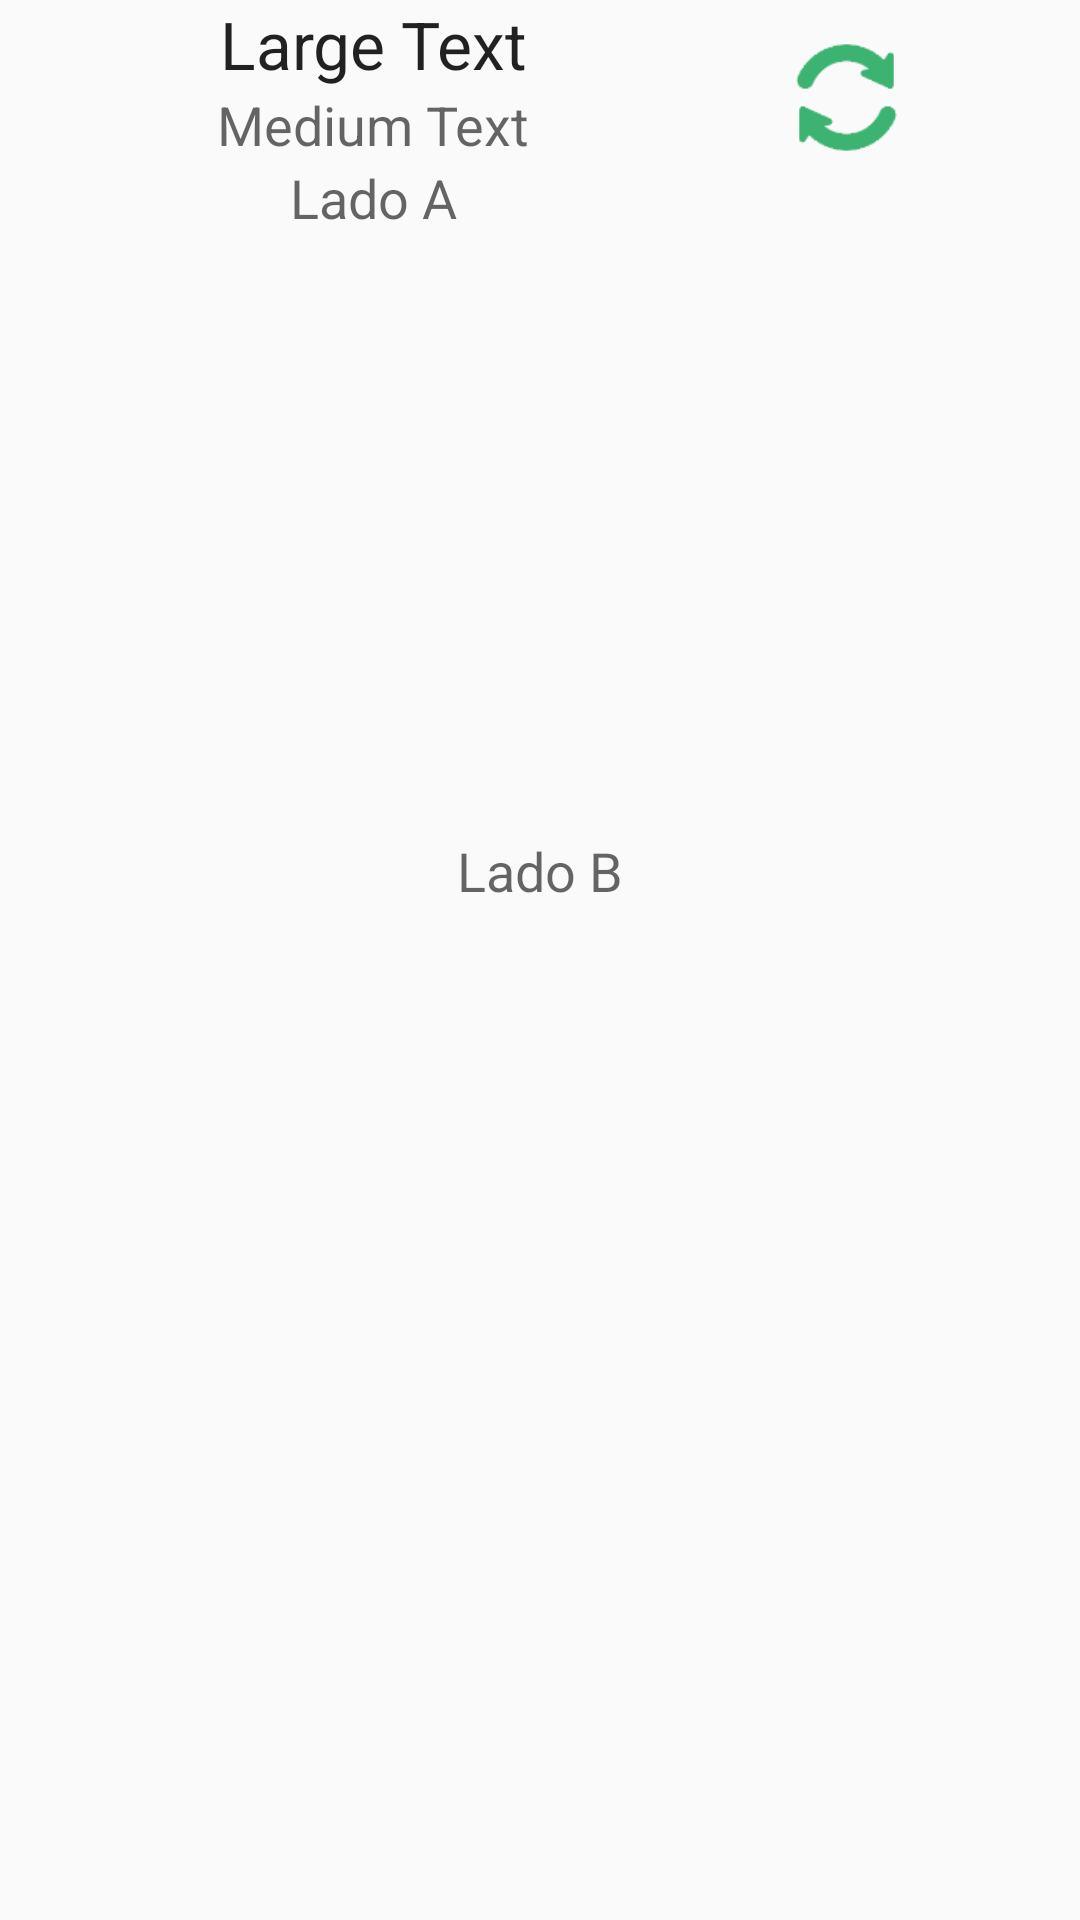

Named icons in this screenshot (1080px x 1920px) and their centers, (x=x, y=y):
atualiza: (x=846, y=97)
